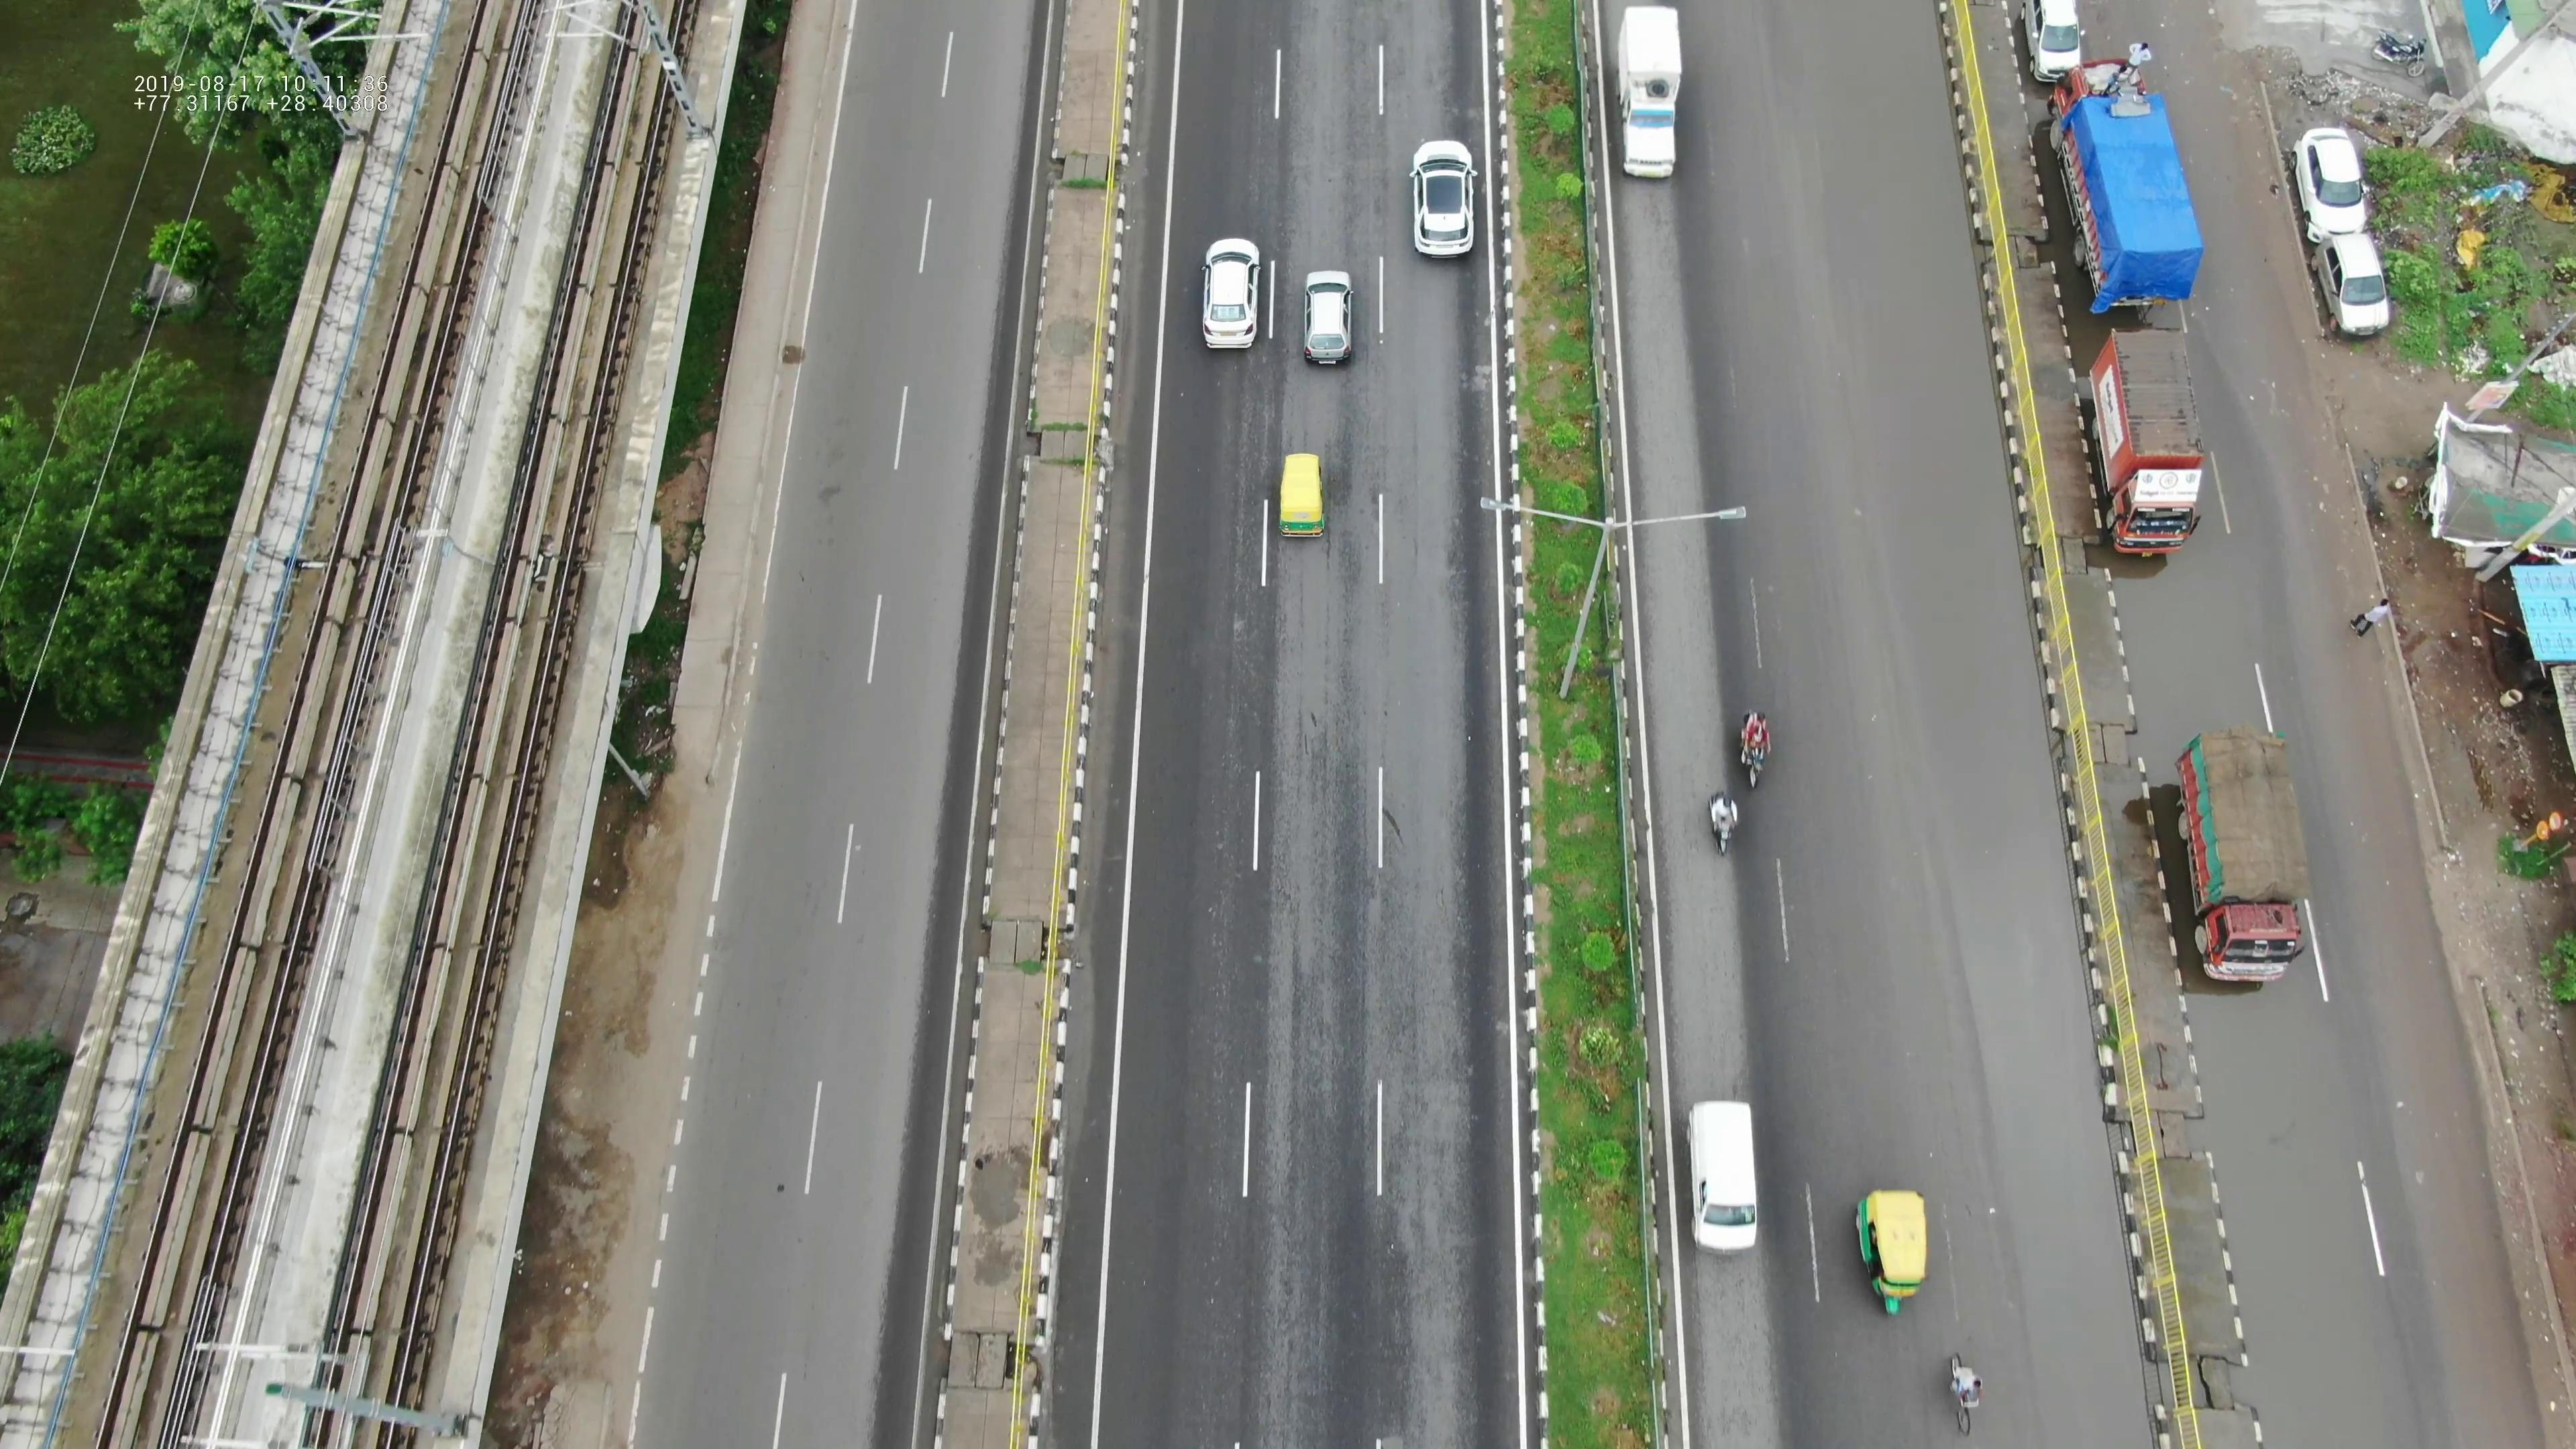Waterlogging: (1836, 396, 2038, 874), (2196, 1051, 2397, 1385), (1902, 934, 2104, 1226), (2104, 566, 2243, 731)
